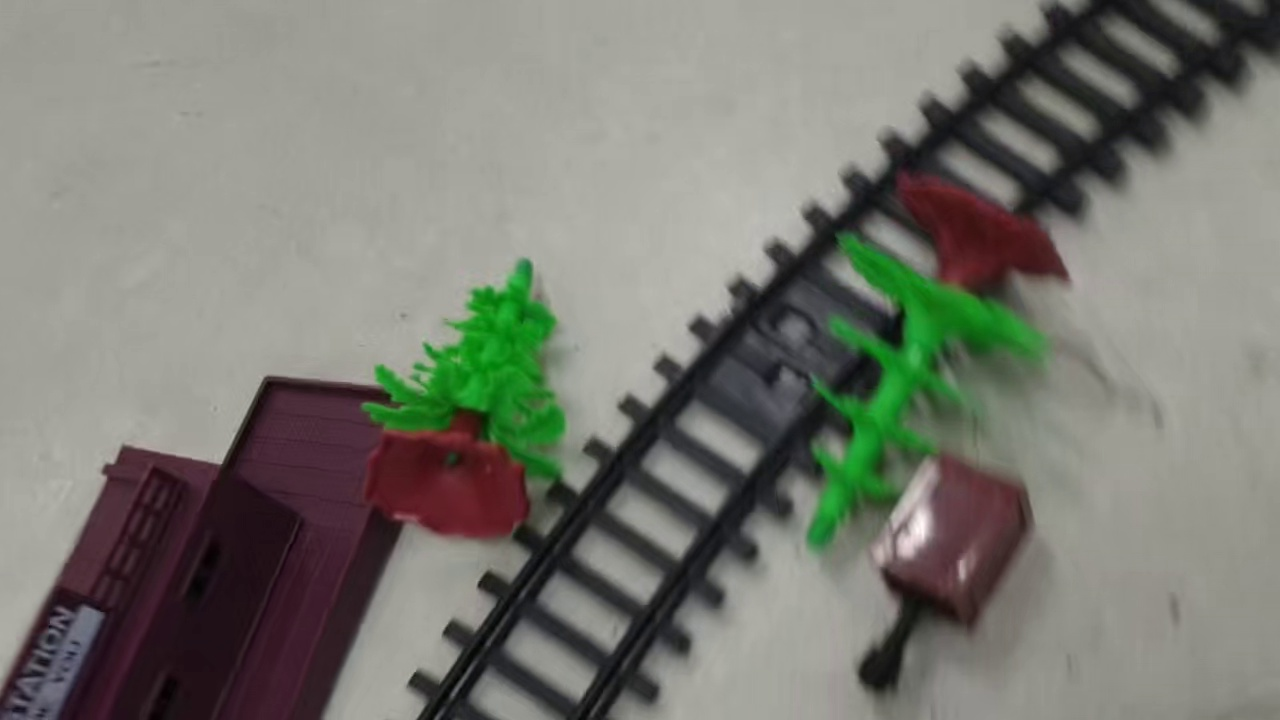box: (863, 449, 1038, 638)
tree: (800, 181, 1080, 549), (360, 255, 572, 541)
